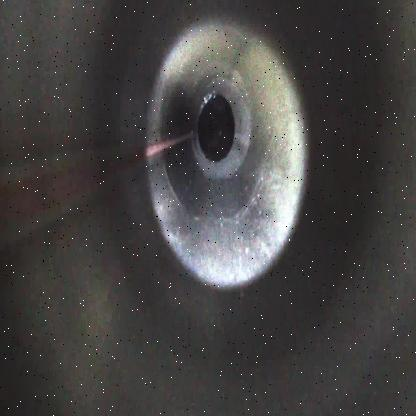NoCrack: (146, 19, 306, 291)
